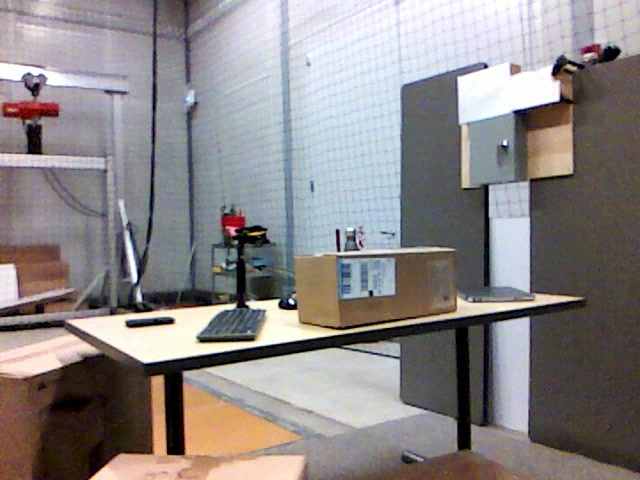box: (2, 334, 154, 480), (294, 249, 459, 328), (84, 452, 305, 480)
